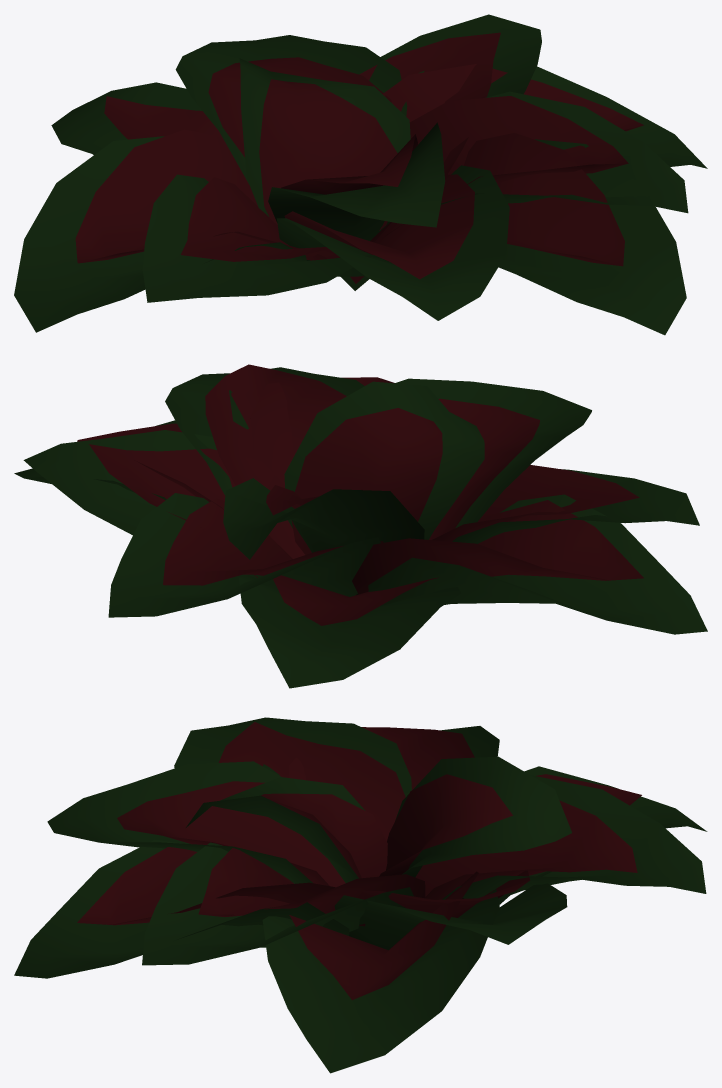
The model's file is TEST_plante.fbx.
3 renders of one model, top to bottom at view 1: azimuth 30°, elevation 25°; view 2: azimuth 150°, elevation 25°; view 3: azimuth 270°, elevation 25°, orthographic.
Visible parts, largest first — view 1: Leaf016, Leaf018, Leaf017, Leaf003, Leaf019, Leaf014, Leaf008, Leaf010, Leaf013, Leaf, Leaf015, Leaf009 (+10 smaller); view 2: Leaf018, Leaf019, Leaf004, Leaf, Leaf011, Leaf002, Leaf010, Leaf013, Leaf006, Leaf008, Leaf001, Leaf007 (+8 smaller); view 3: Leaf022, Leaf016, Leaf012, Leaf009, Leaf, Leaf008, Leaf002, Leaf001, Leaf015, Leaf003, Leaf023, Leaf006 (+10 smaller).
Part boxes in pixels (box(x1,y1,x2,y2)): Leaf016: box(458, 139, 686, 335); Leaf018: box(14, 136, 306, 332); Leaf017: box(464, 133, 624, 266); Leaf003: box(259, 79, 397, 230); Leaf019: box(75, 129, 326, 263); Leaf014: box(142, 174, 389, 302); Leaf008: box(277, 165, 509, 320); Leaf010: box(268, 122, 445, 240); Leaf013: box(383, 96, 628, 237); Leaf: box(175, 35, 407, 184); Leaf015: box(181, 177, 372, 261); Leaf009: box(284, 174, 474, 279); Leaf018: box(368, 494, 707, 634); Leaf019: box(352, 500, 643, 594); Leaf004: box(238, 575, 461, 688); Leaf: box(108, 493, 380, 617); Leaf011: box(291, 408, 442, 554); Leaf002: box(223, 478, 424, 595); Leaf010: box(284, 381, 484, 539); Leaf013: box(205, 364, 346, 558); Leaf006: box(23, 430, 216, 535); Leaf008: box(395, 378, 591, 528); Leaf001: box(163, 498, 383, 595); Leaf007: box(89, 444, 284, 577); Leaf022: box(262, 889, 499, 1073); Leaf016: box(14, 839, 349, 978); Leaf012: box(142, 842, 413, 965); Leaf009: box(117, 781, 345, 887); Leaf: box(442, 775, 706, 899); Leaf008: box(47, 761, 312, 883); Leaf002: box(395, 756, 571, 877); Leaf001: box(415, 800, 637, 899); Leaf015: box(218, 722, 405, 841); Leaf003: box(379, 774, 512, 876); Leaf023: box(289, 871, 478, 1000); Leaf006: box(334, 883, 567, 950).
Bounding box in the file's own units: 45.99 × 13.27 × 41.63.
